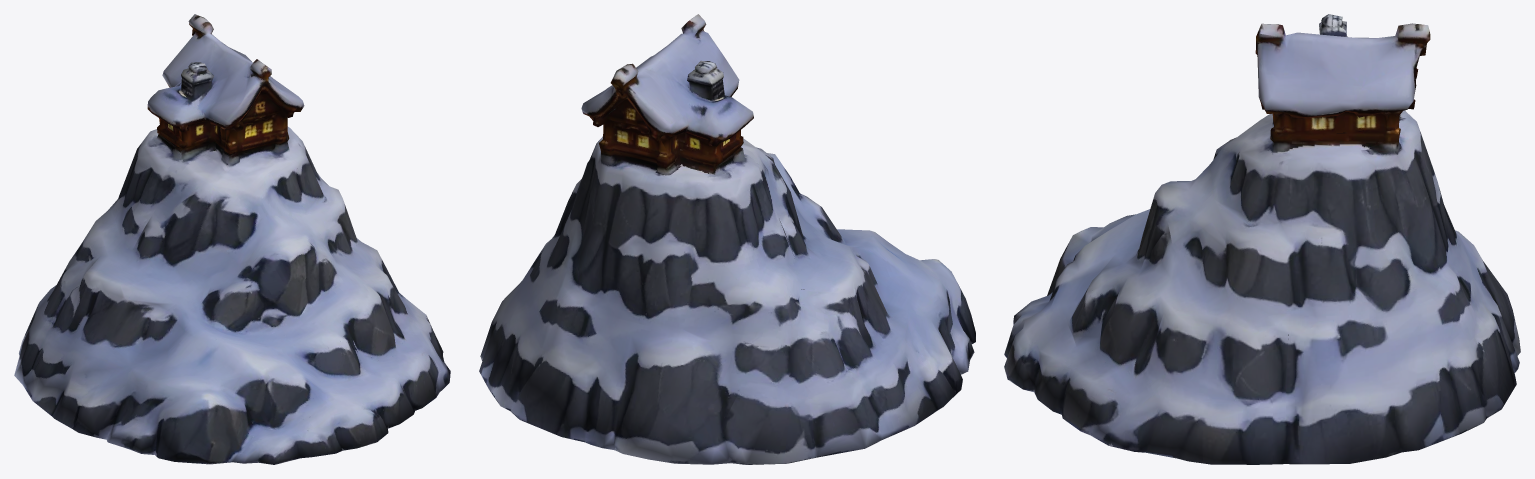
The model's file is landmark-far.glb.
The picture shows the model from 3 angles, left to right: view 1: azimuth 30°, elevation 25°; view 2: azimuth 150°, elevation 25°; view 3: azimuth 270°, elevation 25°; orthographic projection. The views are drawn at different scales.
Visible parts, largest first — view 1: landmark-far; view 2: landmark-far; view 3: landmark-far.
Part boxes in pixels (bbox=[...]): landmark-far: bbox=[14, 14, 450, 464]; landmark-far: bbox=[479, 14, 975, 464]; landmark-far: bbox=[1004, 14, 1520, 464].
Bounding box in the file's own units: 17.96 × 13.99 × 18.52.
1 material, 1 textured.
